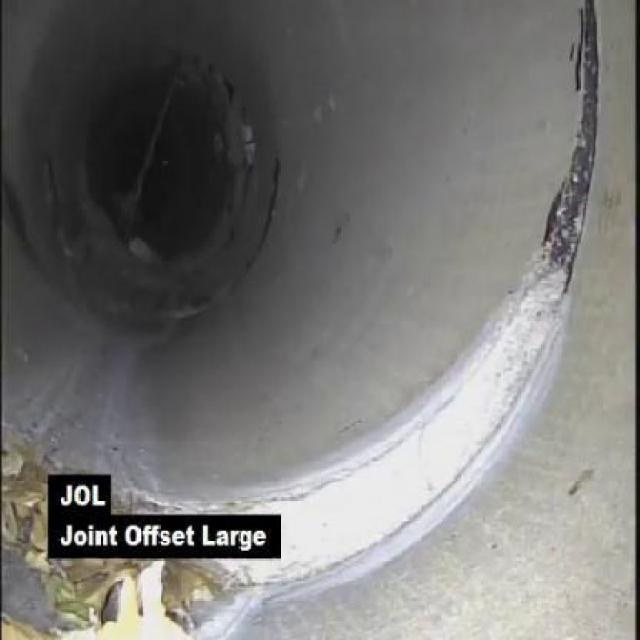Joint offset: (446, 146, 592, 491), (242, 386, 444, 592)
